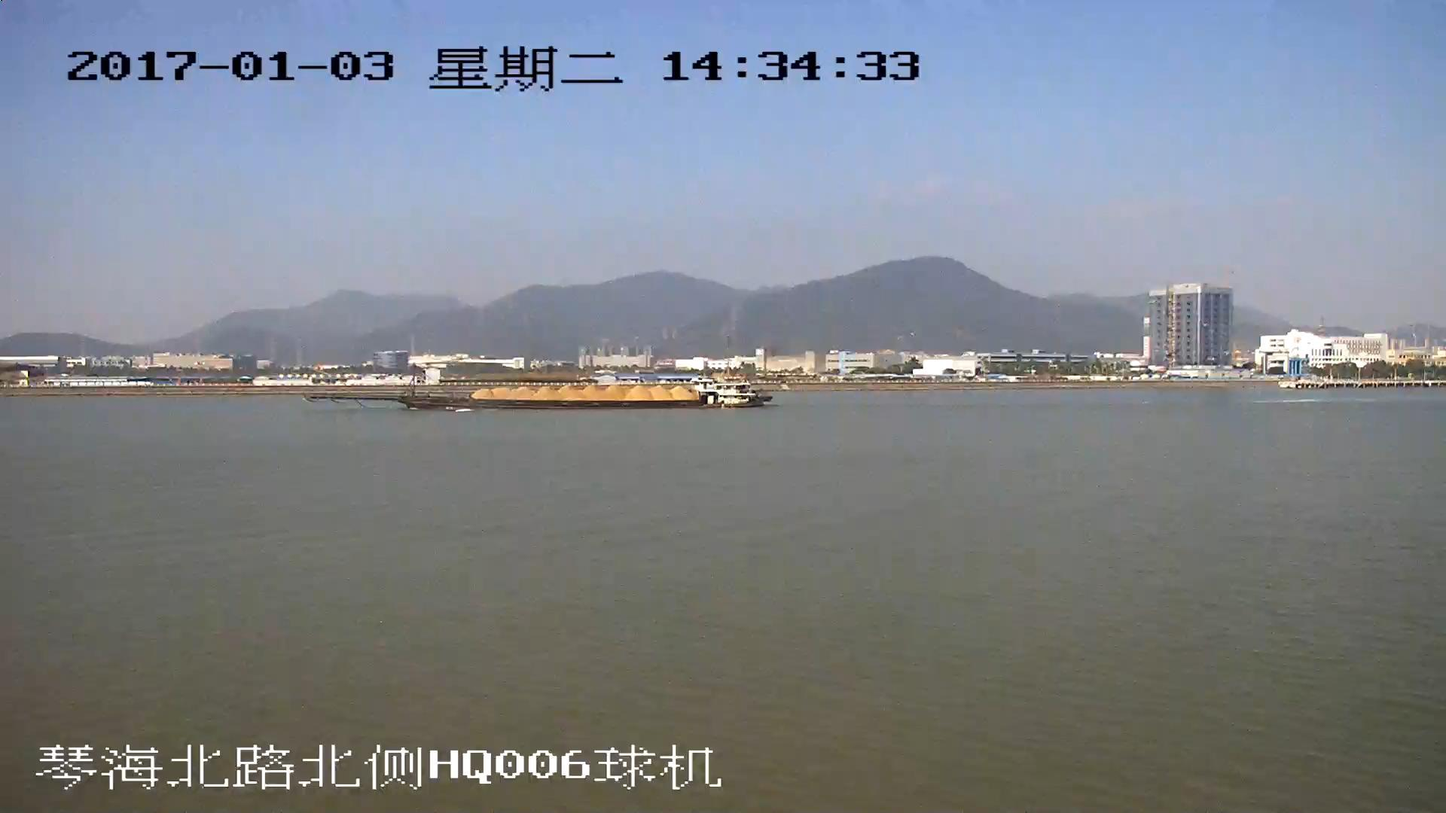ore carrier: (309, 374, 770, 410)
